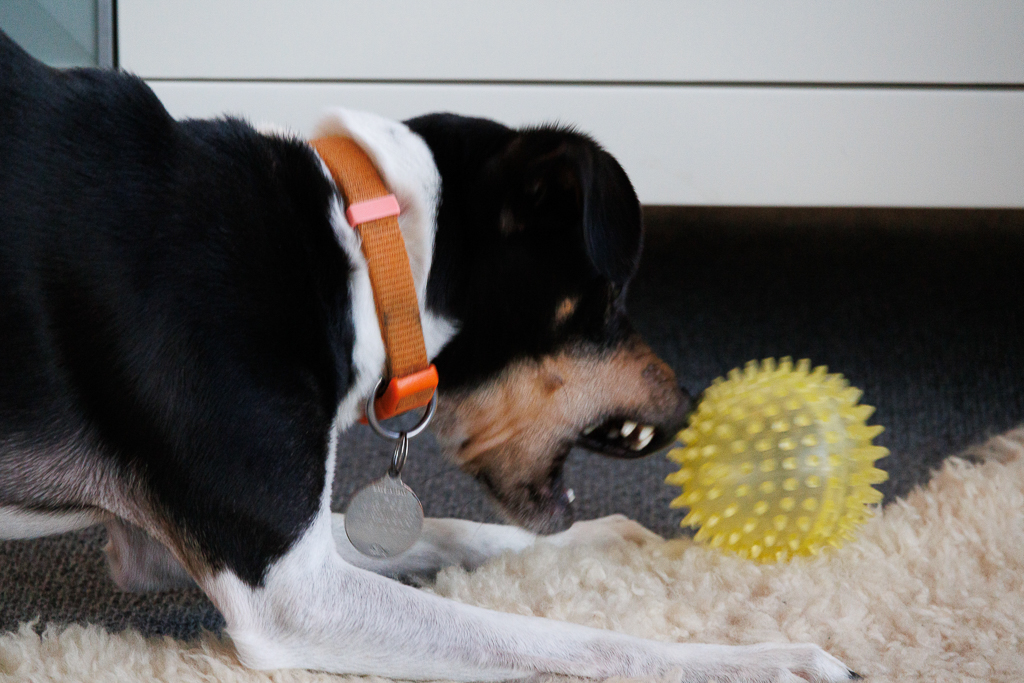Dog: (0, 22, 879, 683)
